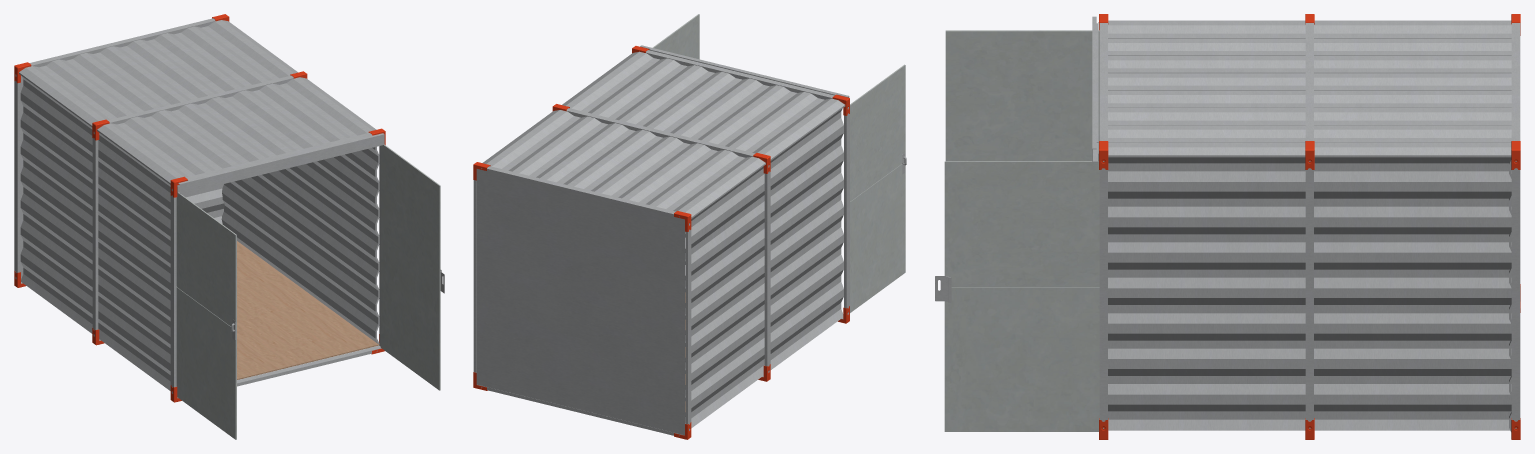
Rendered from 6M_opened.glb.
3 renders of one model, left to right at view 1: azimuth 30°, elevation 25°; view 2: azimuth 150°, elevation 25°; view 3: azimuth 270°, elevation 25°, orthographic. The views are drawn at different scales.
Visible parts, largest first — view 1: ceiling.001, leftWall, leftWall.001, rightSideDoorWing, leftSideDoorWing, floorPlan.001, rimFront.001, gutter, corners.001, backWall, Plane; view 2: Plane, ceiling.001, leftWall, leftSideDoorWing, rimFront.001, corners.001, rightSideDoorWing, gutter; view 3: leftWall.001, ceiling.001, rightSideDoorWing, leftSideDoorWing, rimFront.001, corners.001, gutter.
Part boxes in pixels (box(x1,y1,x2,y2)): ceiling.001: box(19, 20, 376, 184); leftWall: box(20, 76, 170, 390); leftWall.001: box(221, 146, 379, 344); rightSideDoorWing: box(380, 144, 440, 390); leftSideDoorWing: box(176, 193, 236, 439); floorPlan.001: box(21, 241, 379, 379); rimFront.001: box(14, 18, 381, 398); gutter: box(177, 133, 384, 194); corners.001: box(14, 14, 385, 402); backWall: box(177, 184, 224, 223); Plane: box(20, 75, 23, 278); Plane: box(476, 169, 684, 435); ceiling.001: box(482, 51, 845, 218); leftWall: box(685, 108, 843, 428); leftSideDoorWing: box(850, 64, 905, 312); rimFront.001: box(473, 50, 849, 436); corners.001: box(473, 46, 849, 439); rightSideDoorWing: box(652, 14, 699, 59); gutter: box(640, 45, 849, 97); leftWall.001: box(1108, 157, 1511, 430); ceiling.001: box(1108, 20, 1511, 157); rightSideDoorWing: box(944, 161, 1099, 431); leftSideDoorWing: box(945, 30, 1099, 161); rimFront.001: box(1099, 23, 1520, 428); corners.001: box(1099, 14, 1520, 439); gutter: box(1092, 16, 1098, 162).
Size of the model in its own units: 23.11 by 22.98 by 42.01.
Materials: 13 (9 with a texture image).
